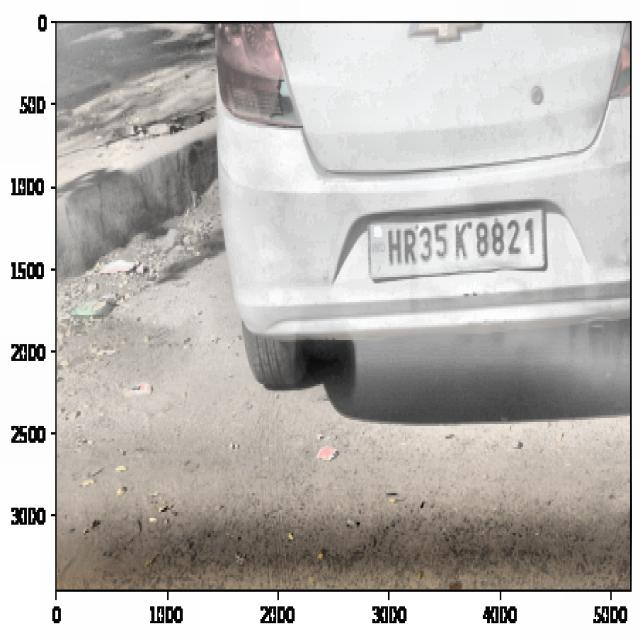license_plate: (381, 209, 542, 271)
